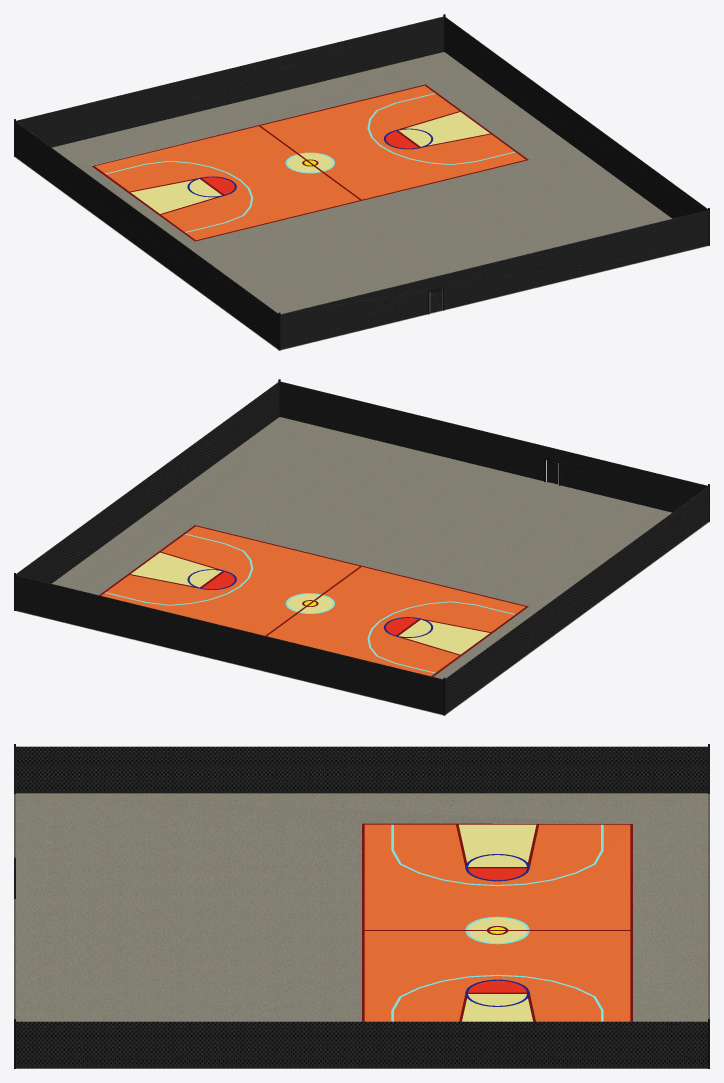
File: ENVO_BasketBallCourt.obj
3 views of the same model, one above another, from view 1: azimuth 30°, elevation 25°; view 2: azimuth 150°, elevation 25°; view 3: azimuth 270°, elevation 25° (orthographic). The views are drawn at different scales.
Visible parts, largest first — view 1: inside_ENVO_BasketBallCourt.002, court_ENVO_BasketBallCourt.001; view 2: inside_ENVO_BasketBallCourt.002, court_ENVO_BasketBallCourt.001; view 3: inside_ENVO_BasketBallCourt.002, court_ENVO_BasketBallCourt.001.
Part boxes in pixels (left/top/right/bottom): inside_ENVO_BasketBallCourt.002: left=14, top=14, right=709, bottom=350; court_ENVO_BasketBallCourt.001: left=92, top=84, right=528, bottom=241; inside_ENVO_BasketBallCourt.002: left=14, top=379, right=709, bottom=715; court_ENVO_BasketBallCourt.001: left=99, top=525, right=528, bottom=676; inside_ENVO_BasketBallCourt.002: left=14, top=744, right=709, bottom=1068; court_ENVO_BasketBallCourt.001: left=362, top=823, right=632, bottom=1021.
Size of what is drawn, in the model's own units: 22.82 by 1.9 by 24.34.
10 materials, 4 textured.
